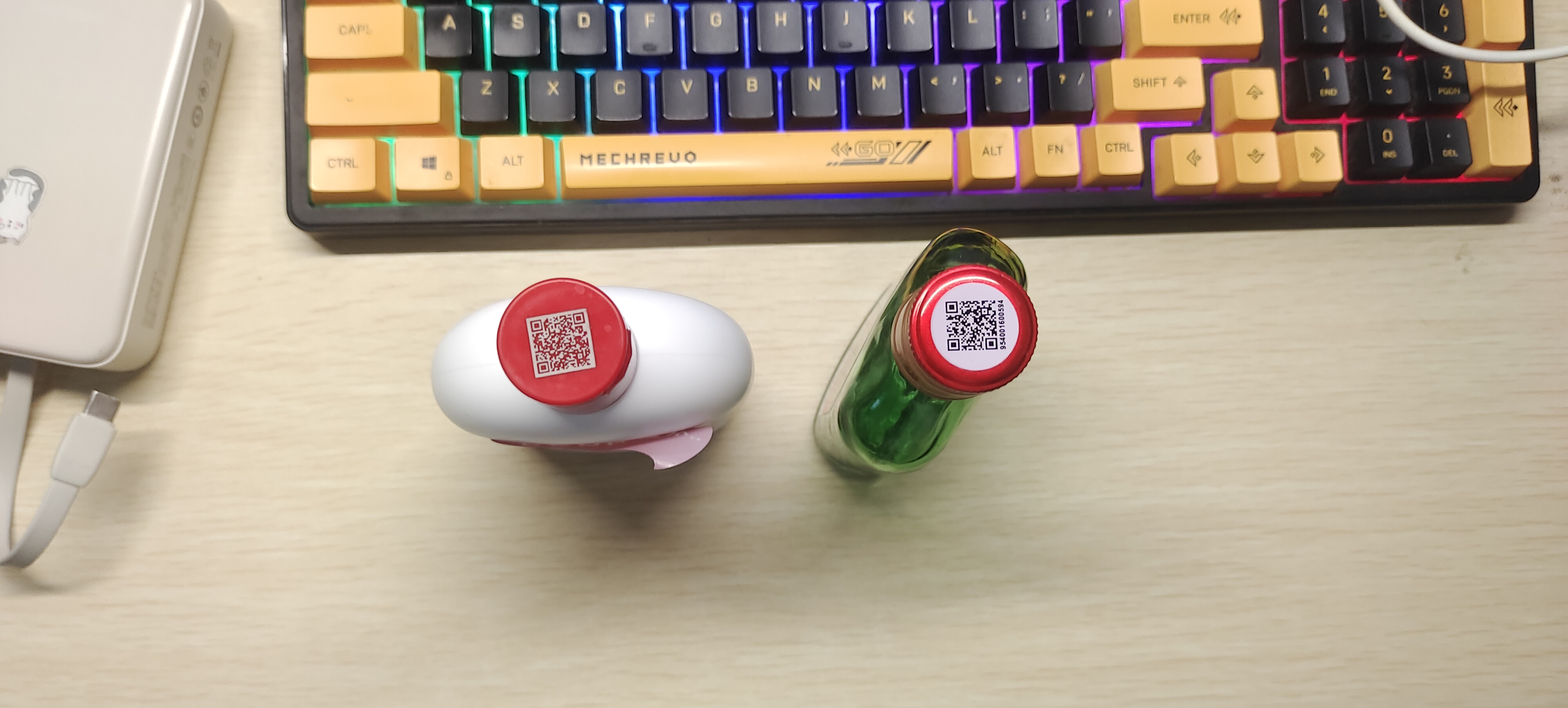redbull: (789, 202, 1083, 496)
